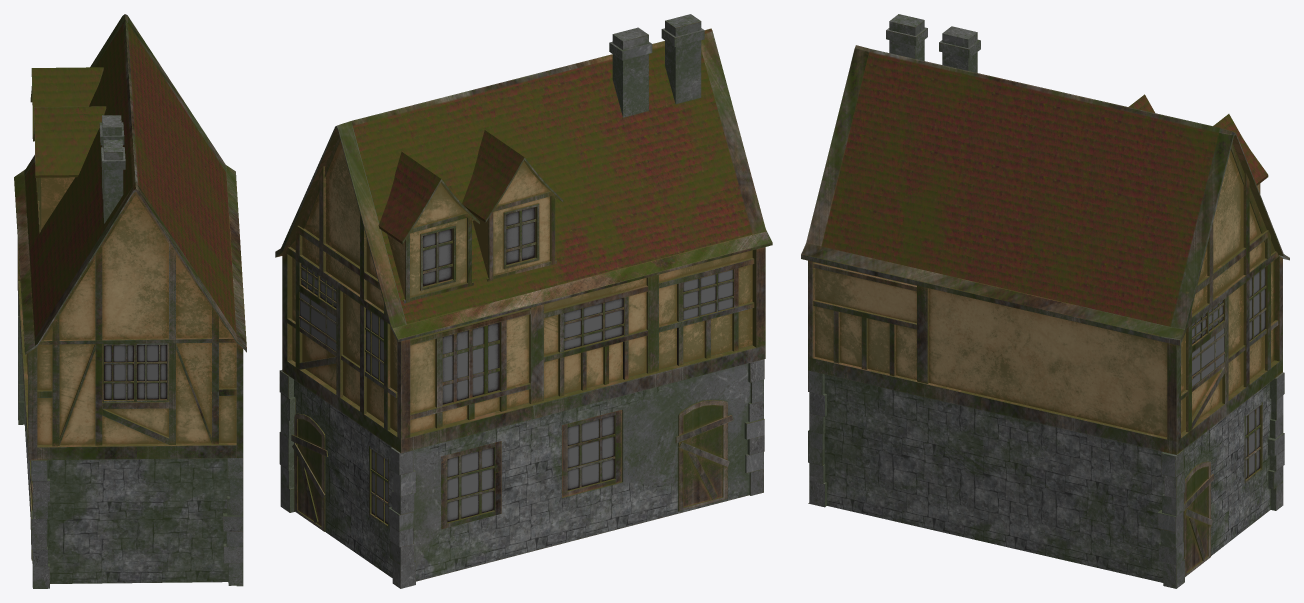
The model's file is Medieval_House2.fbx.
3 views of the same model, side by side, from view 1: azimuth 30°, elevation 25°; view 2: azimuth 150°, elevation 25°; view 3: azimuth 270°, elevation 25° (orthographic). The views are drawn at different scales.
Parts seen in each view (by area): view 1: House2, House2.001; view 2: House2, House2.001, House2.003, House2.002; view 3: House2, House2.001, House2.002.
Boxes of the visible parts, x1=… form: House2: x1=24, y1=14, x2=246, y2=583; House2.001: x1=14, y1=14, x2=246, y2=588; House2: x1=291, y1=14, x2=766, y2=581; House2.001: x1=275, y1=125, x2=772, y2=588; House2.003: x1=675, y1=399, x2=733, y2=511; House2.002: x1=291, y1=413, x2=328, y2=531; House2: x1=801, y1=14, x2=1288, y2=582; House2.001: x1=801, y1=128, x2=1289, y2=588; House2.002: x1=1183, y1=461, x2=1214, y2=576.
Size of the model in its own units: 814 by 972 by 976.
